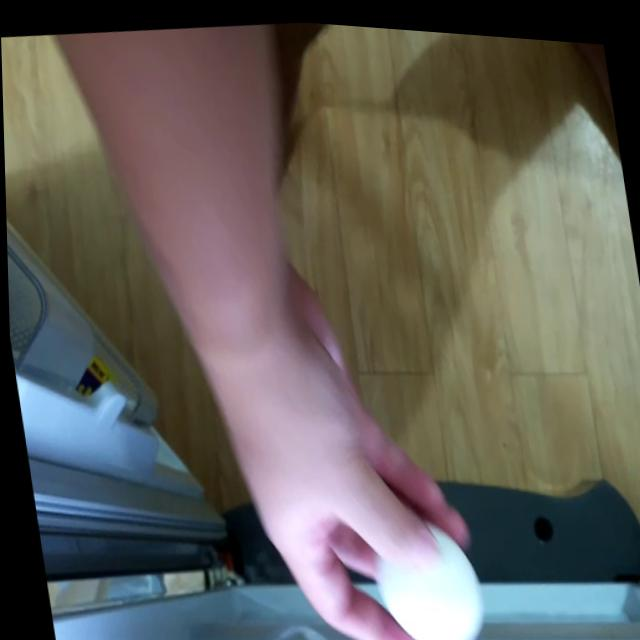egg: (356, 502, 487, 640)
